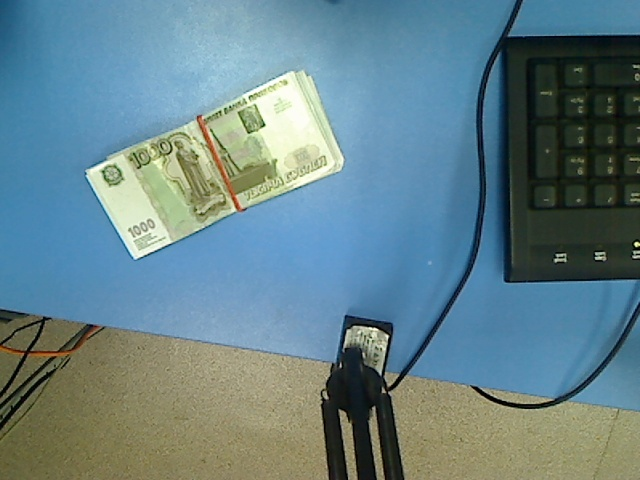banknotes: (81, 70, 346, 262)
